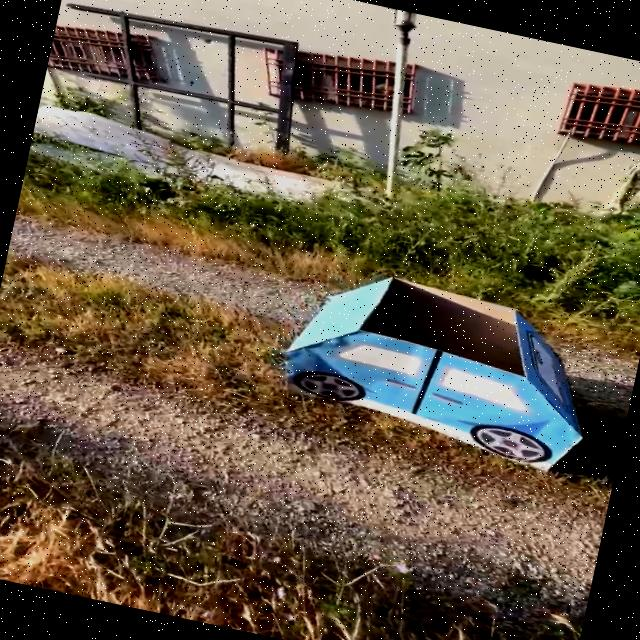blue_car: (218, 222, 640, 508)
